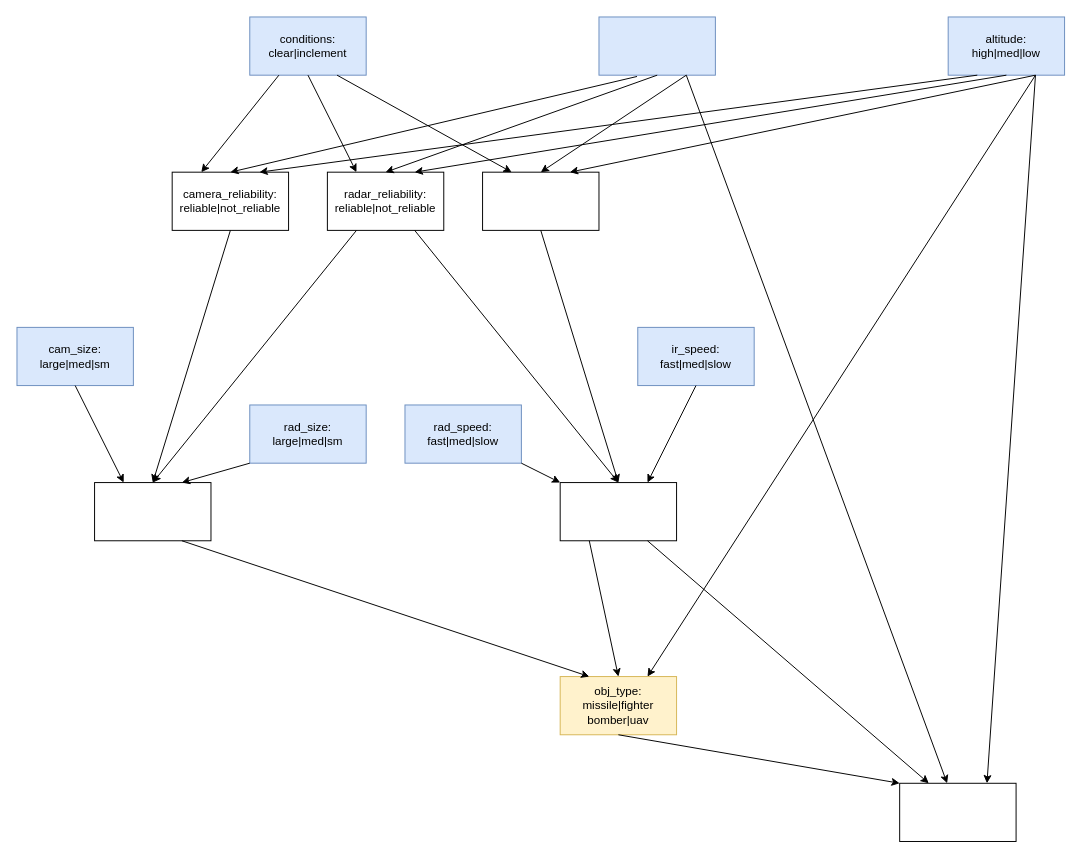
Image size: 1082x858. Some labels were removed from this diagram. Here are the shapes that lost their labels. From the top down, the centre of each, then its label:
(656,45): range: far|med|near
(540,200): ir_reliability: reliable|not_reliable
(152,511): size: large|med|small
(618,511): speed: fast|med|slow
(957,811): intent: cruise|attack evade/neut
